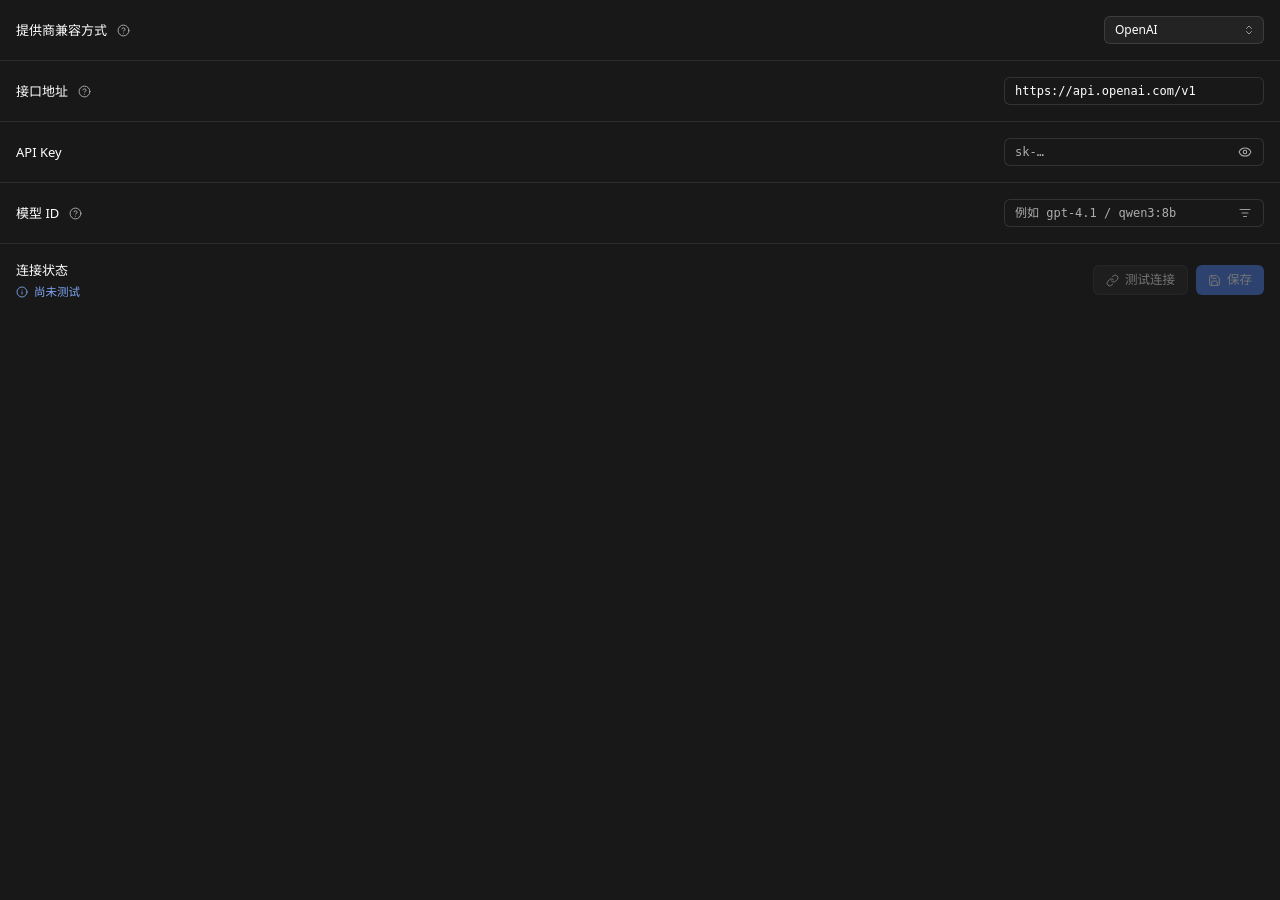
Test: ModelForm 模型 ID suggestions › lists fetched models as kit menu items and fills the input on pick
Click the button named "从接口拉取模型列表" at (1245, 213), box [1235,203,1255,223]
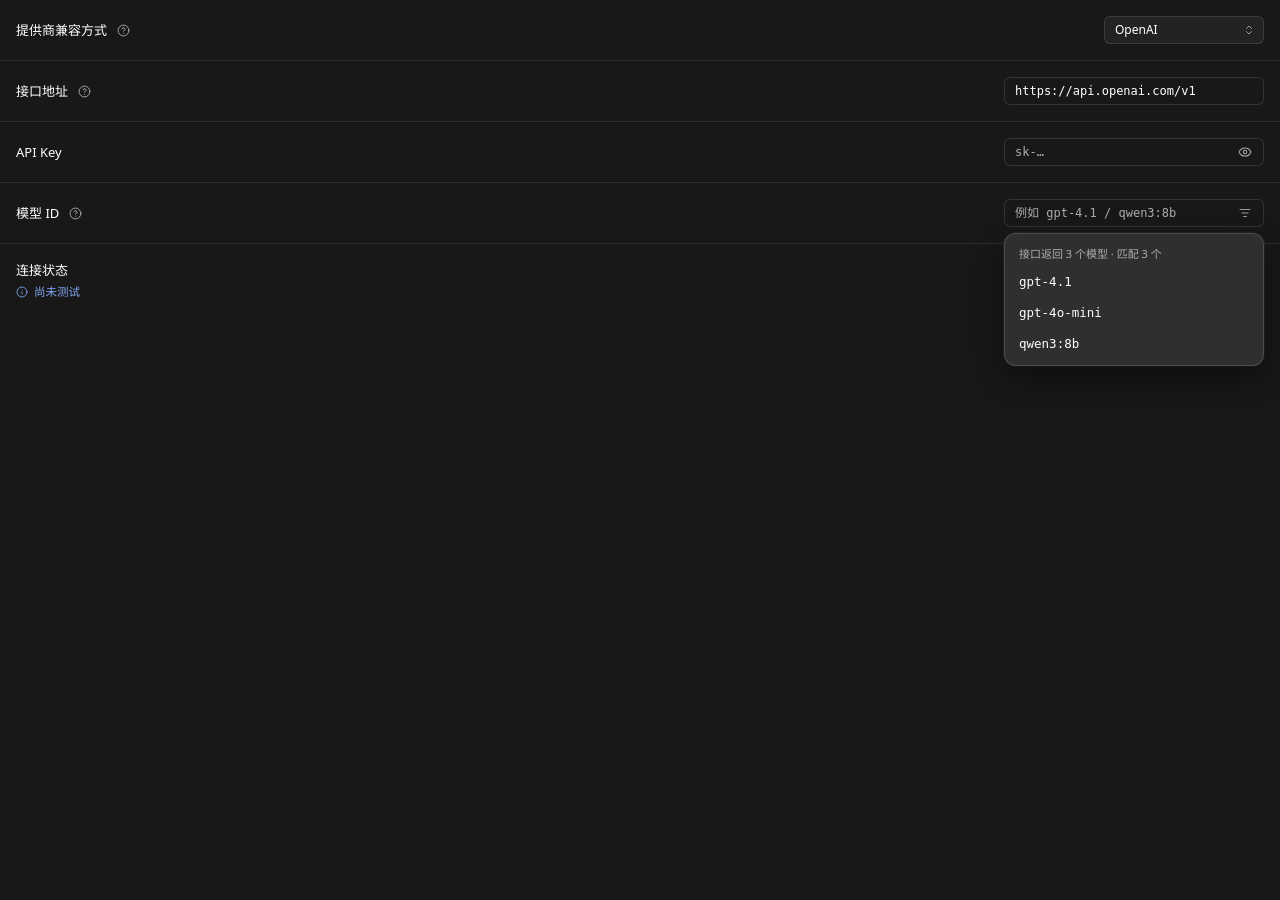
Expected: the options read "gpt-4.1", "gpt-4o-mini", "qwen3:8b", in this order
Click the option "qwen3:8b" at (1134, 344), box [1011,328,1257,358]
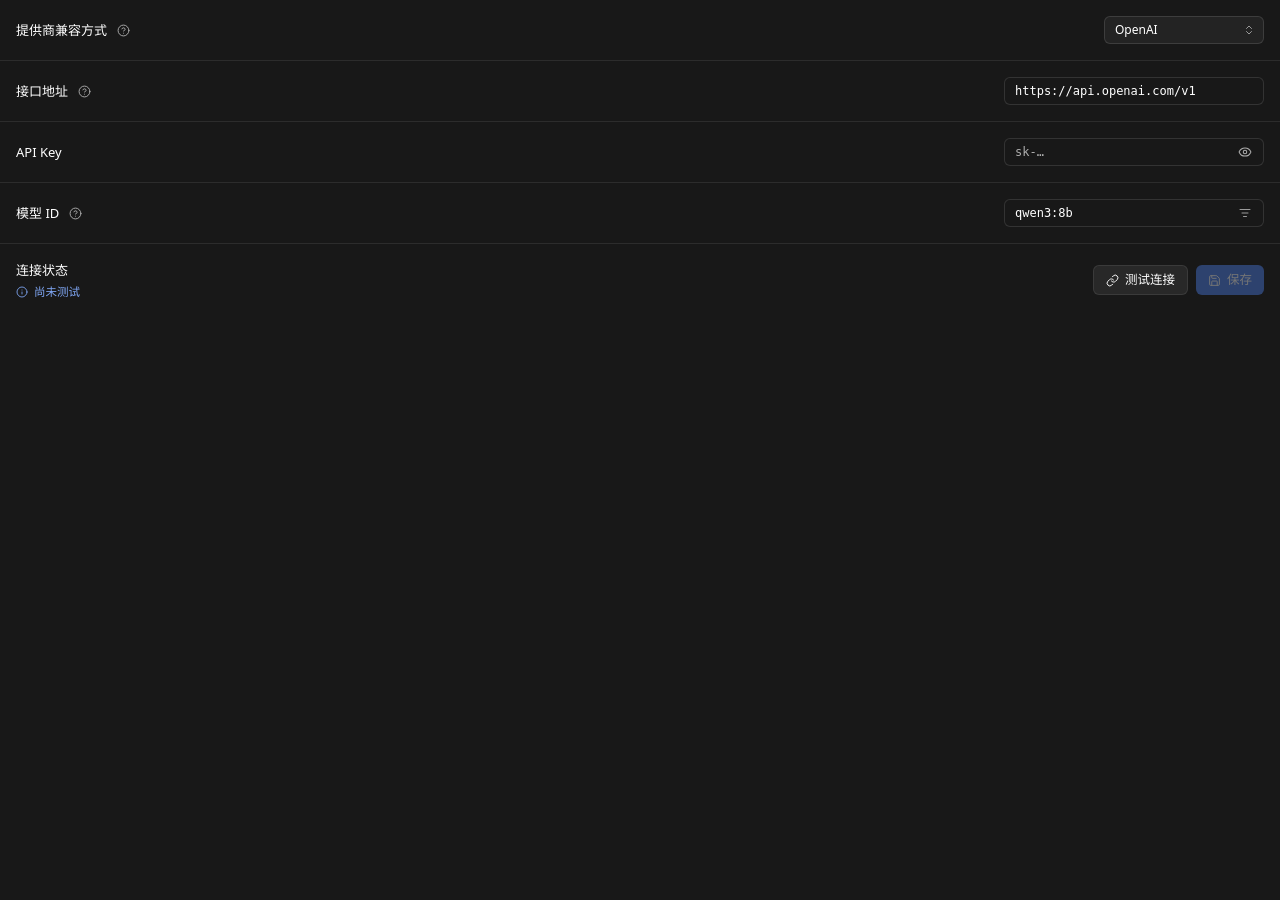
Expected: the field labelled "模型 ID" holds "qwen3:8b", [1015,200,1227,226]
Expected: the list is gone
